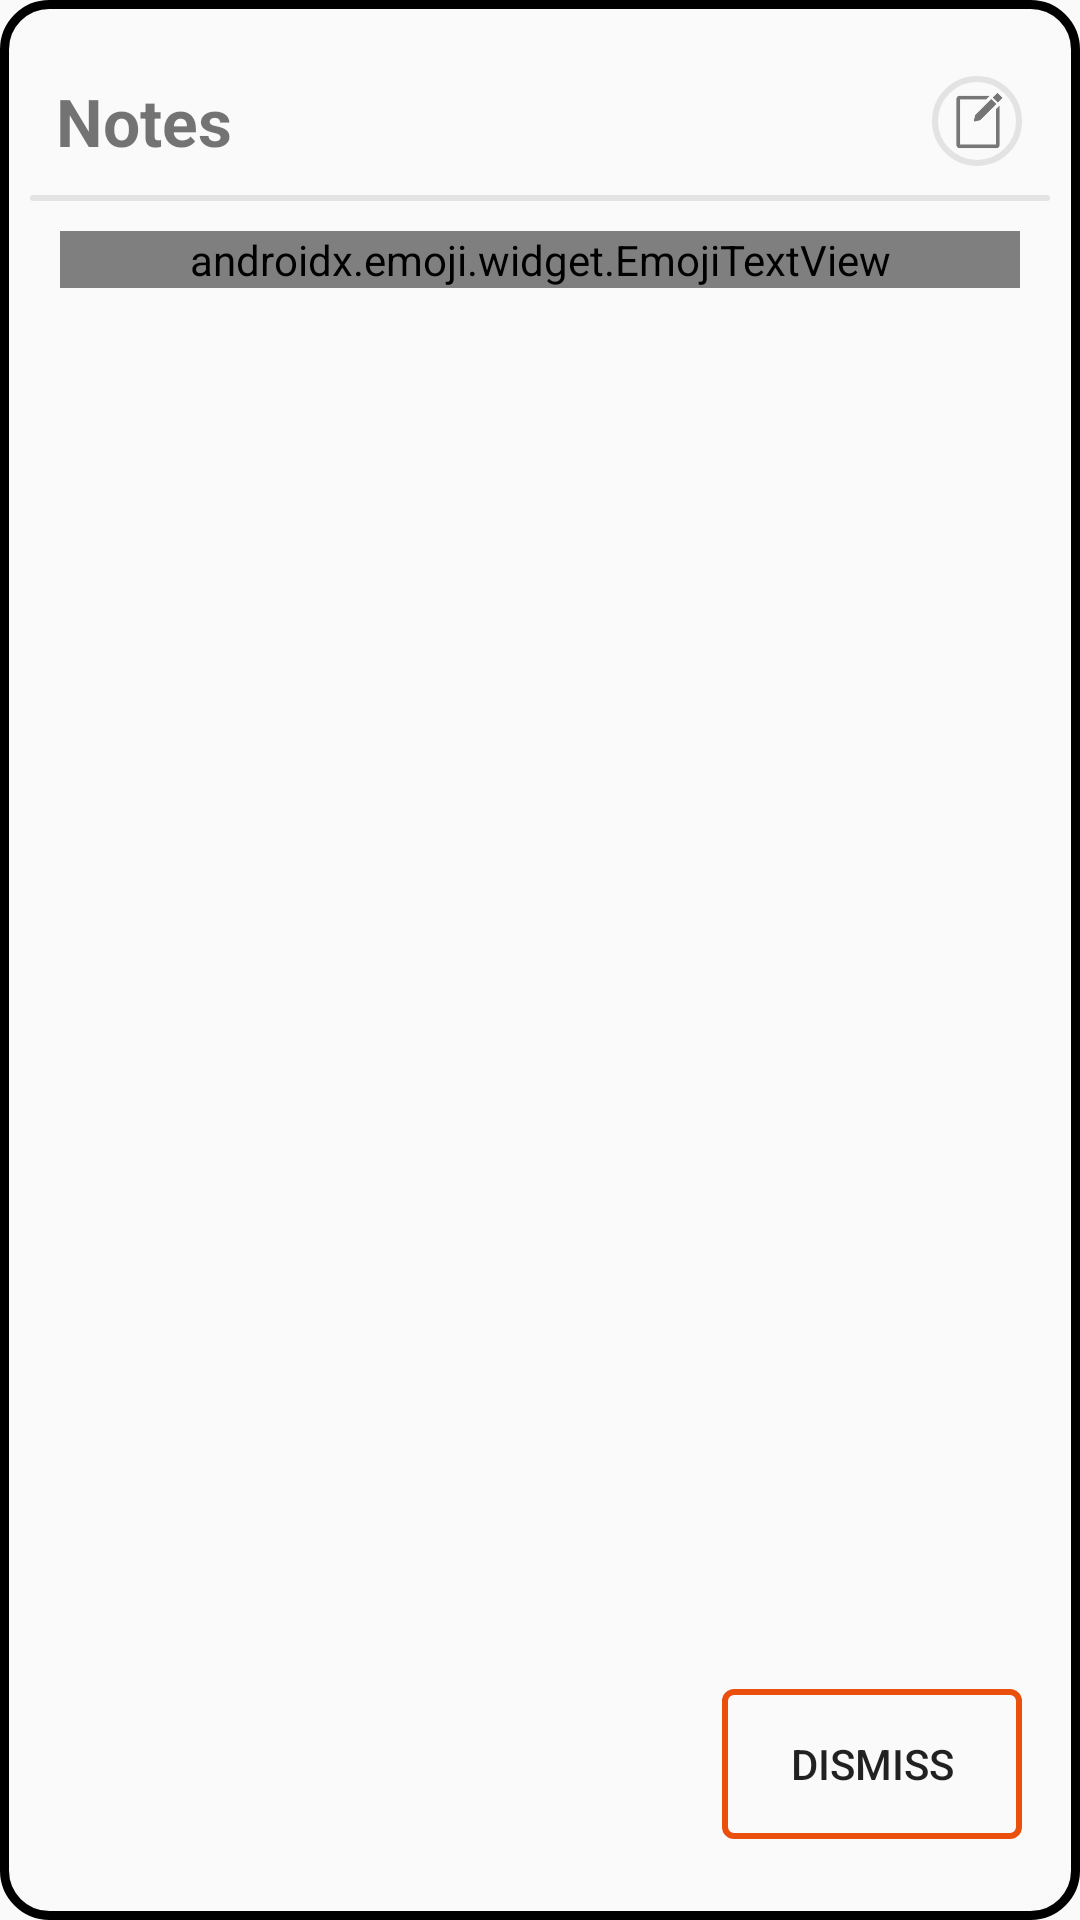

Icons on this 1080px×1920px Android screen, each with its box as (x1, y1, x2, y2):
Button to edit text: (956, 93, 1002, 148)
